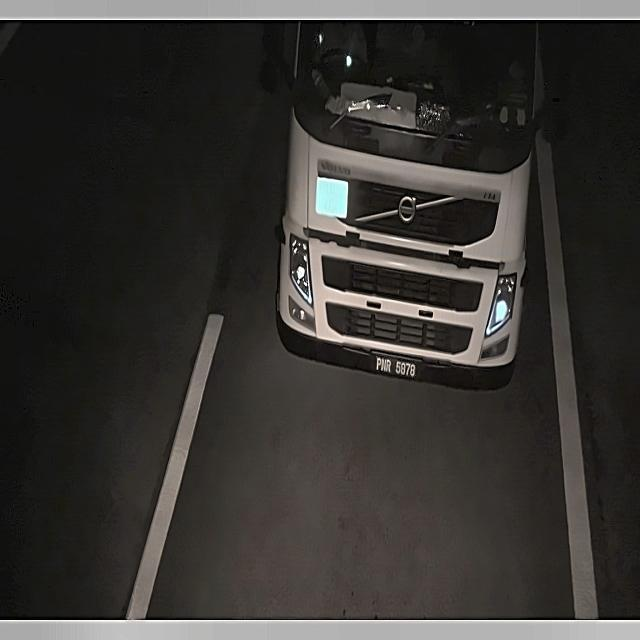car: (371, 355, 423, 381)
